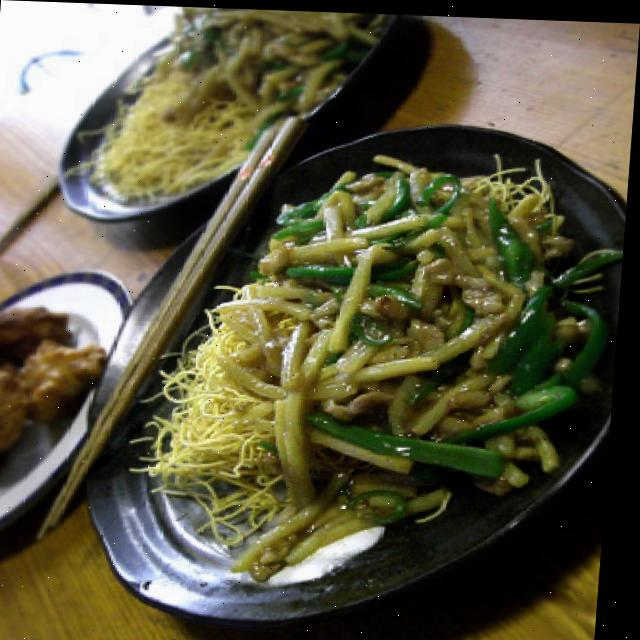牛肉菜式: (88, 106, 634, 637)
